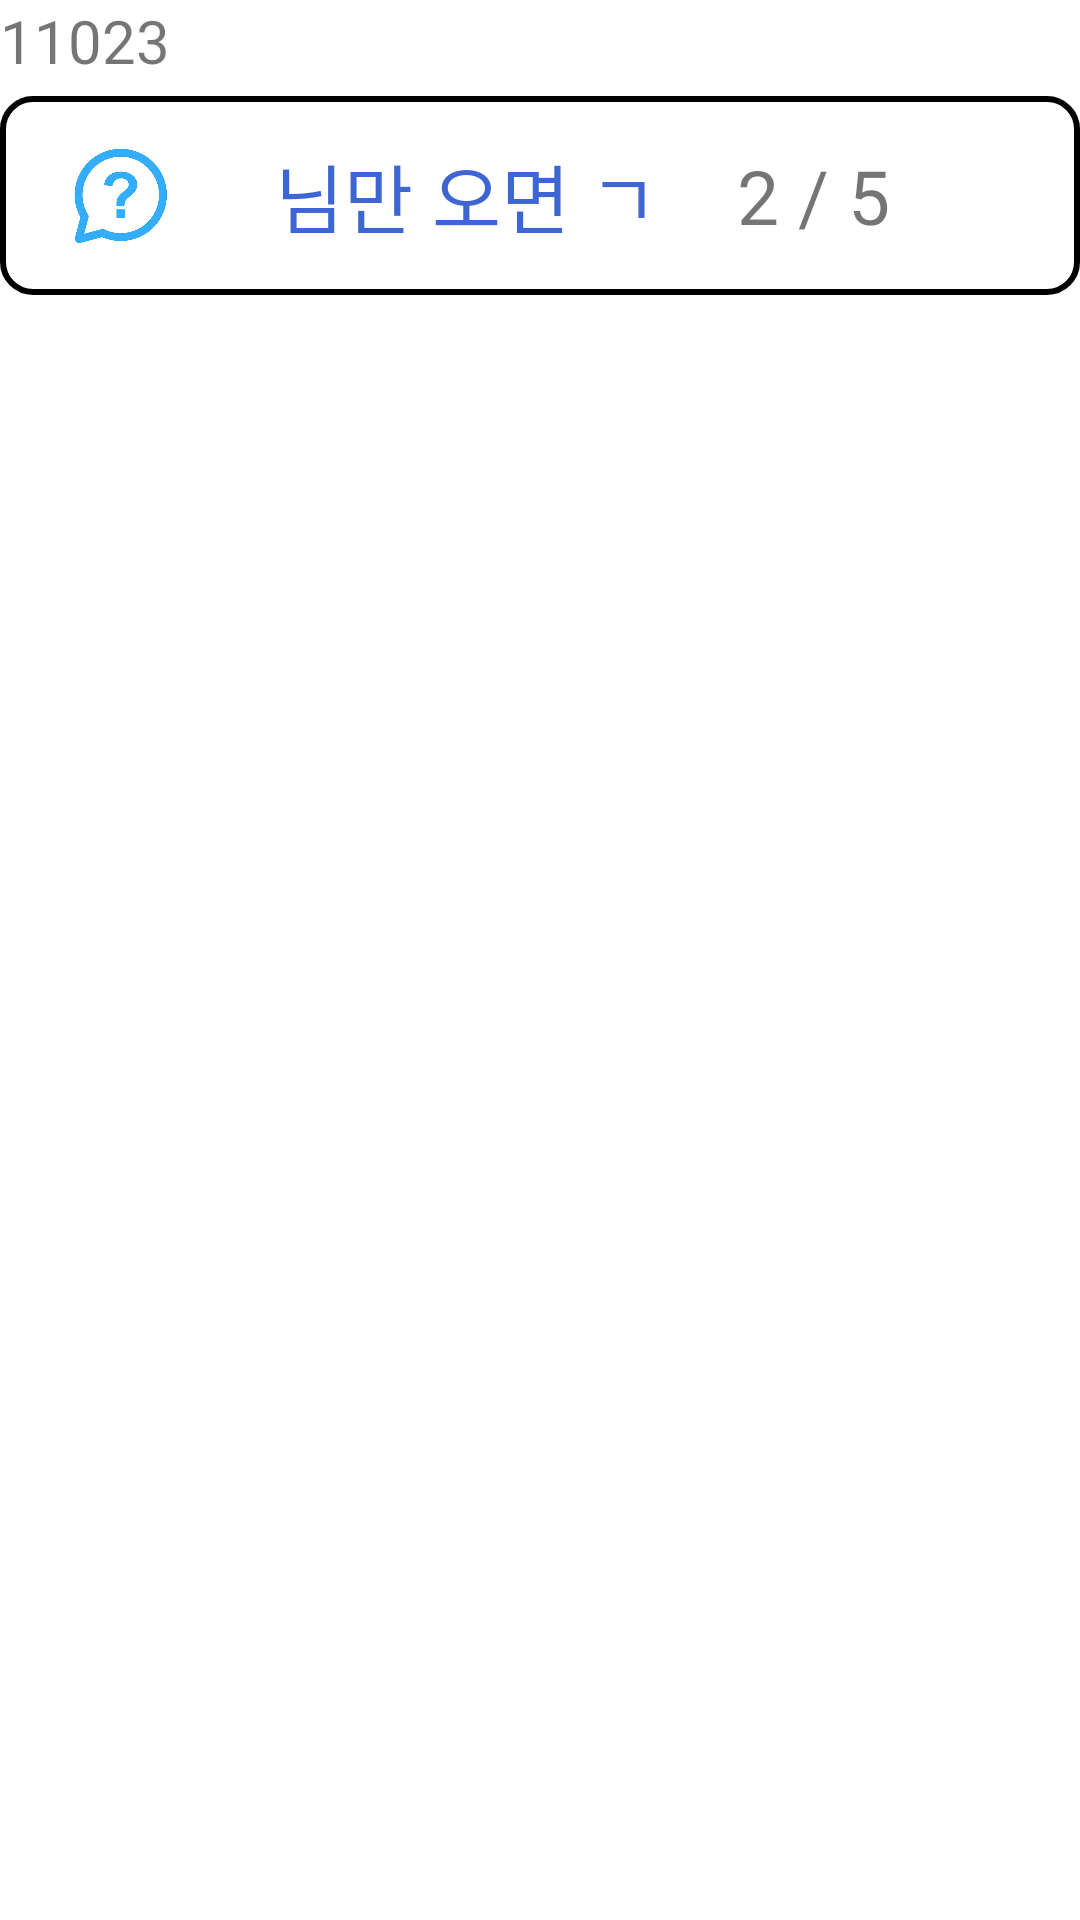

Locate icon controls on the screen. Image size 1080 x 1920, boxes as (x1, y1, x2, y2).
question: (74, 149, 167, 243)
